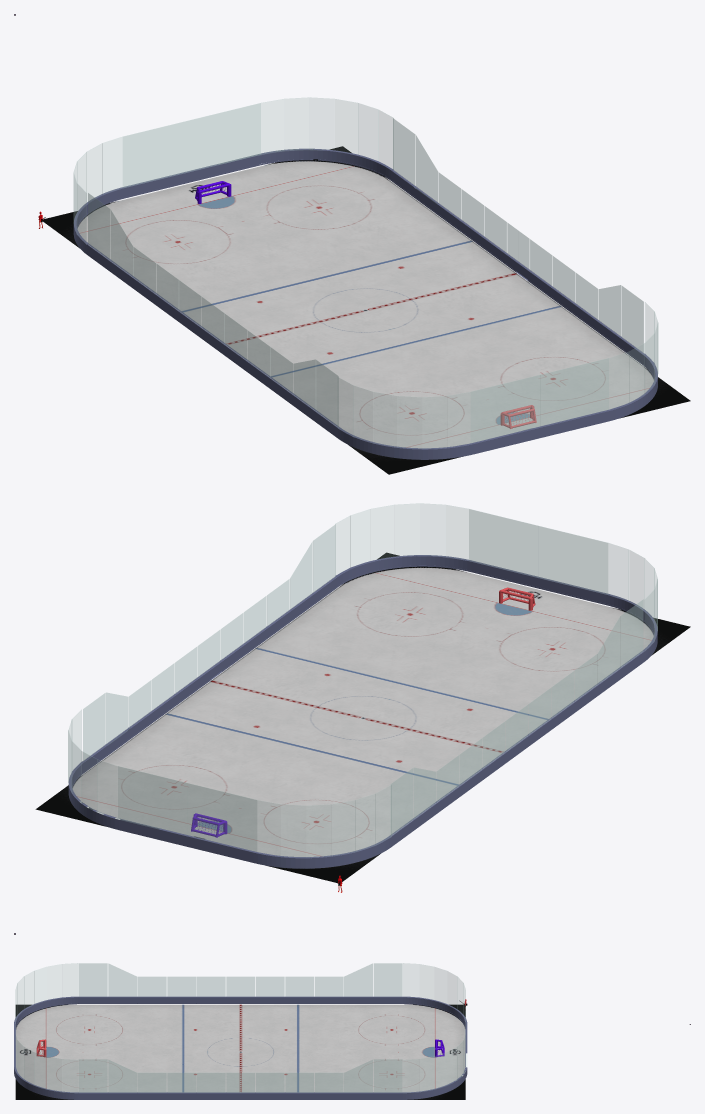
File: arena.glb
3 renders of one model, top to bottom at view 1: azimuth 30°, elevation 25°; view 2: azimuth 150°, elevation 25°; view 3: azimuth 270°, elevation 25°, orthographic. The views are drawn at different scales.
Parts seen in each view (by area): view 1: basearena; view 2: basearena; view 3: basearena.
Boxes of the visible parts, x1,y1,x2,y2 form: basearena: (42, 97, 690, 474); basearena: (35, 503, 690, 883); basearena: (14, 963, 467, 1099).
Bounding box in the file's own units: 31.1 × 6.93 × 91.83.
Materials: 12 (1 with a texture image).
